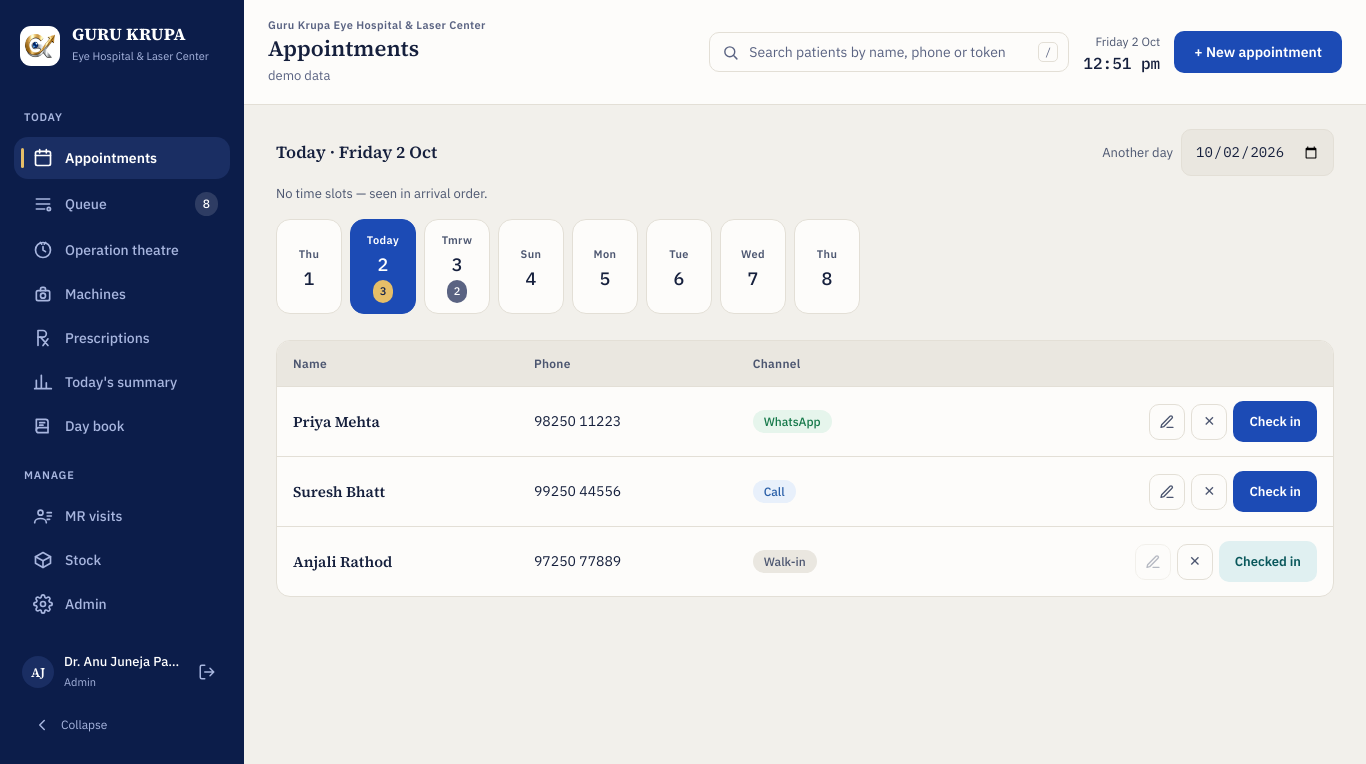
Appointments › shows the day strip with counts and the list for the selected day
The image size is (1366, 764).
Expected: the table with id "apptList" shows "Priya Mehta", top-left (293, 411), bottom-right (380, 432)
Expected: the table with id "apptList" shows "Suresh Bhatt", top-left (293, 481), bottom-right (385, 502)
Click the tab "Tmrw 3 2" at (457, 266), box top-left (424, 219), bottom-right (490, 314)
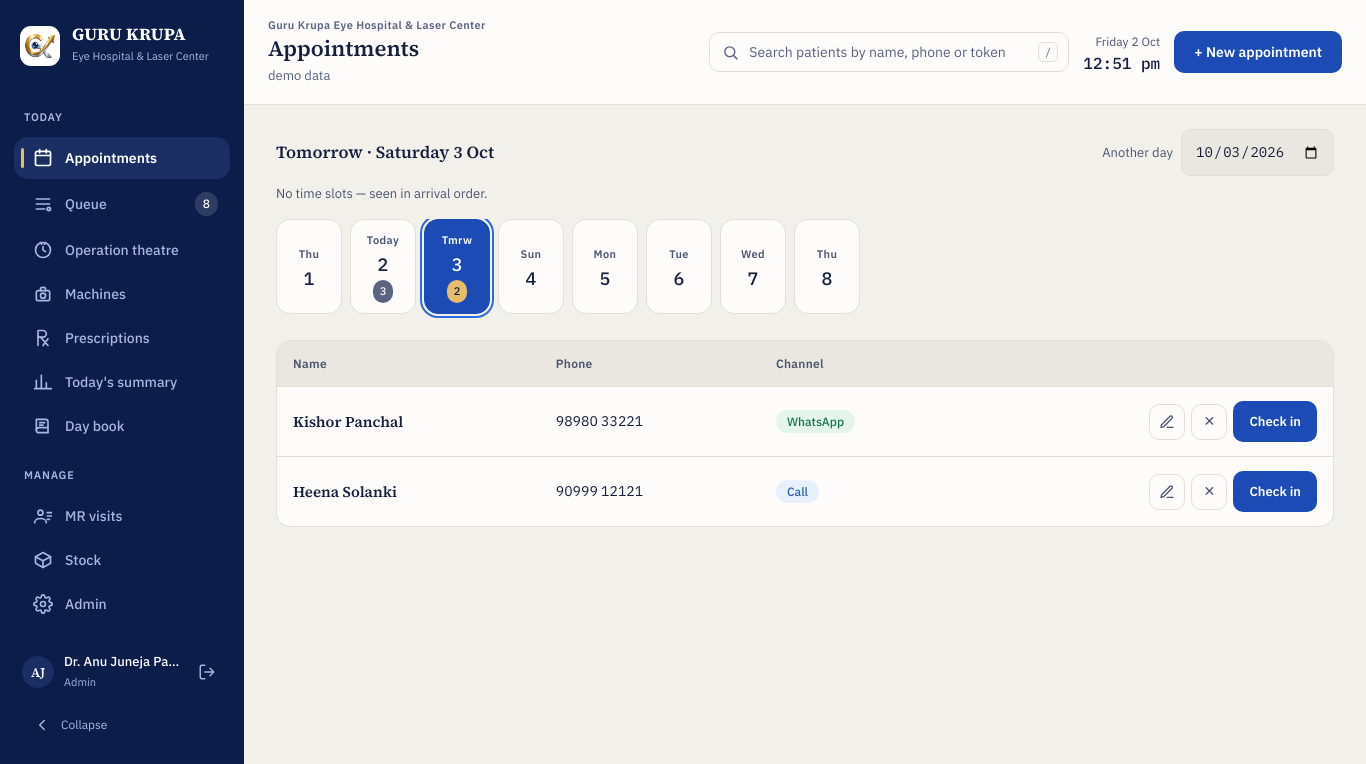
Expected: the table with id "apptList" shows "Kishor Panchal", top-left (293, 411), bottom-right (403, 432)
Expected: the heading "Tomorrow · Saturday 3 Oct" is shown, top-left (276, 141), bottom-right (494, 164)
